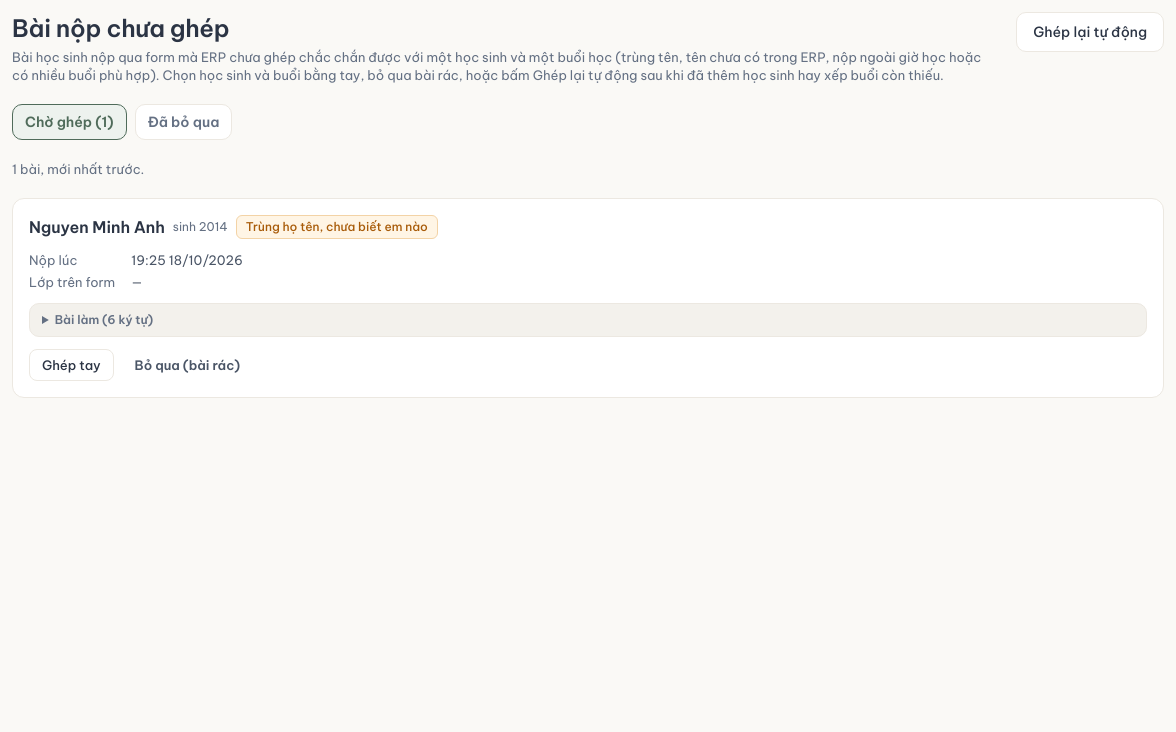
Test: ignore (bài rác) › needs a reason, then ignores and refreshes
The width and height of the screenshot is (1176, 732).
Click the button "Bỏ qua (bài rác)": (187, 365) top-left (122, 349), bottom-right (253, 381)
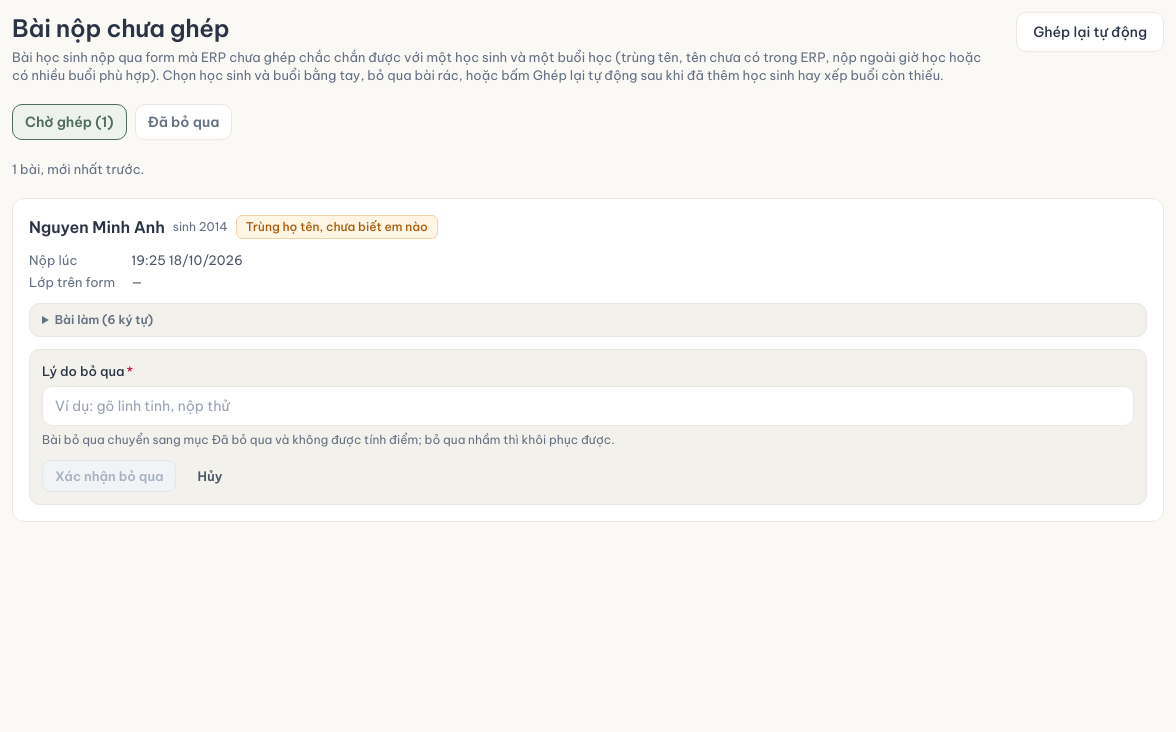
Expected: the button "Xác nhận bỏ qua" is disabled, top-left (42, 460), bottom-right (176, 492)
In the field labelled "Lý do bỏ qua": (588, 406) top-left (42, 386), bottom-right (1134, 426), type "Gõ linh tinh"
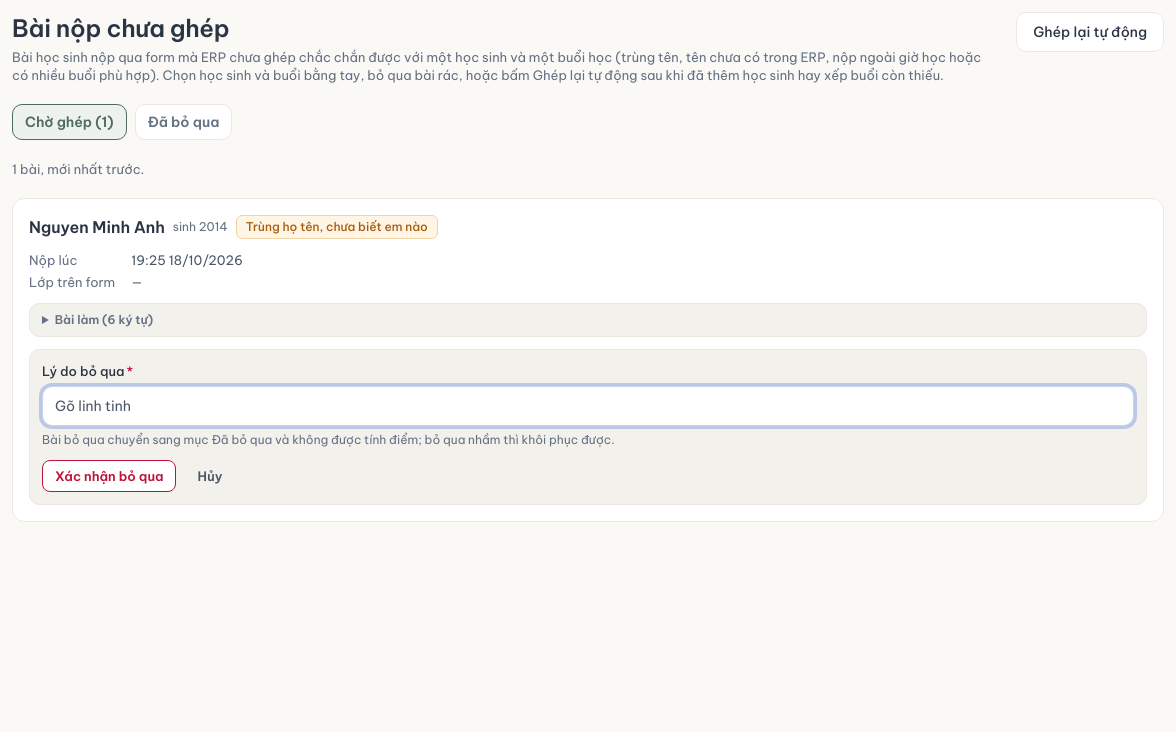
Click the button "Xác nhận bỏ qua": (109, 476) top-left (42, 460), bottom-right (176, 492)
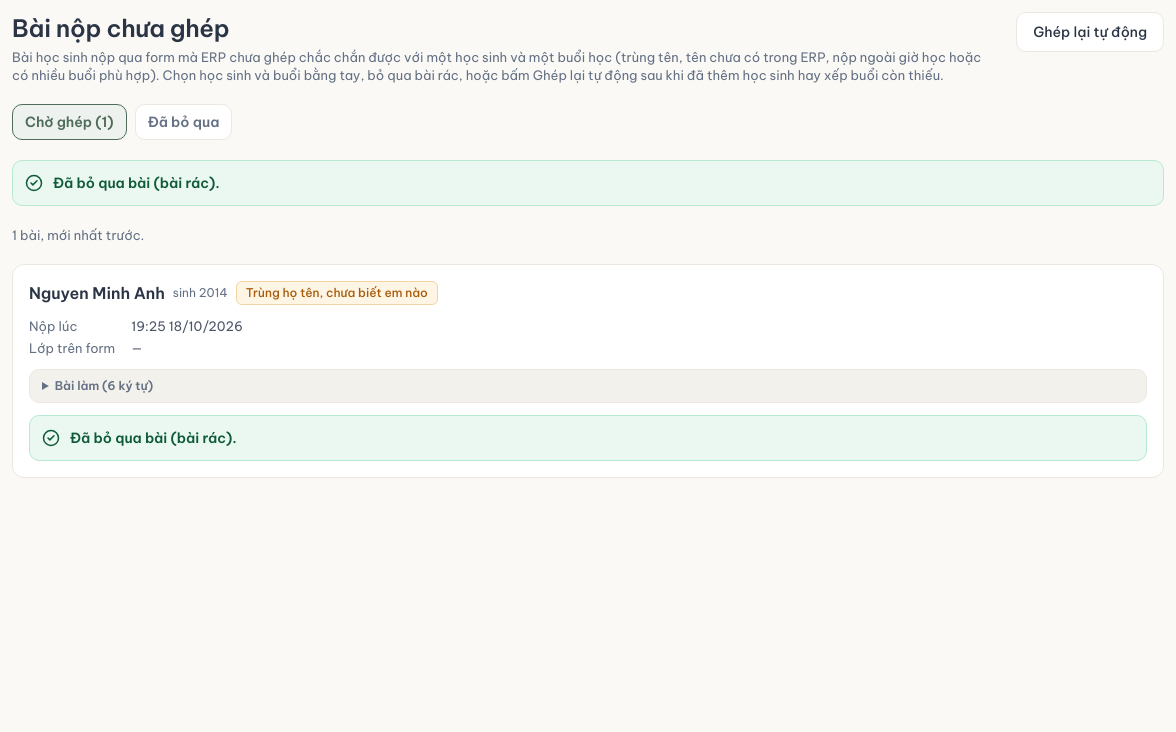
Expected: the text "Đã bỏ qua bài (bài rác)." is shown 2 times, top-left (53, 174), bottom-right (220, 192); top-left (70, 429), bottom-right (237, 447)
